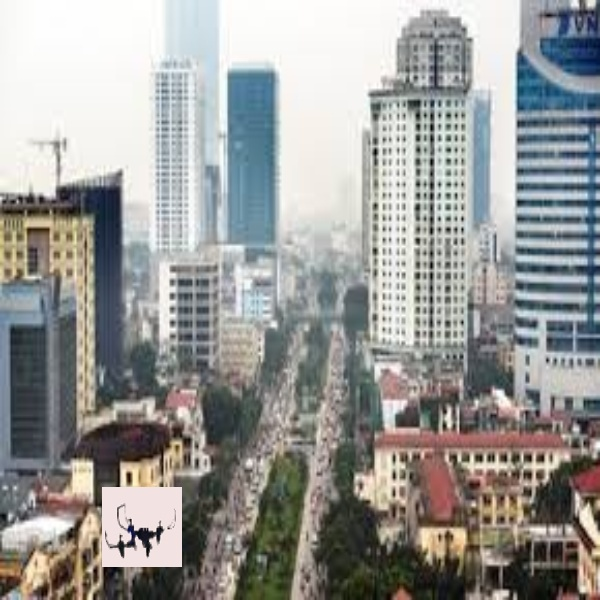drone: (101, 494, 181, 567)
